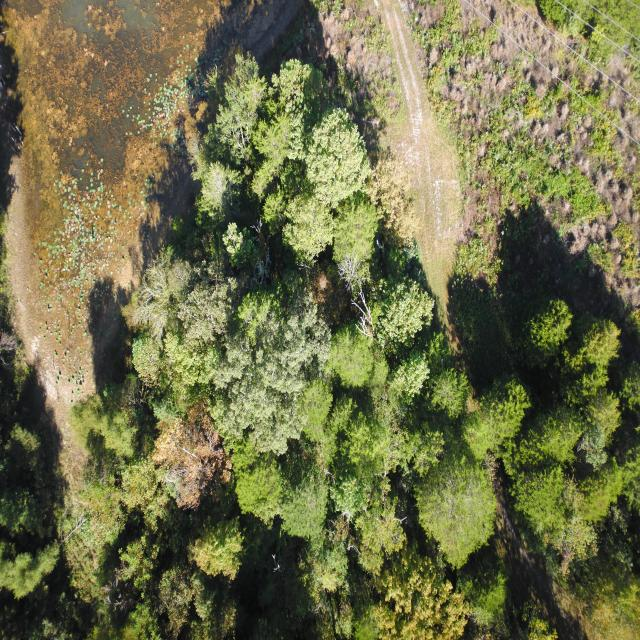Area of Interest: (4, 58, 631, 623)
